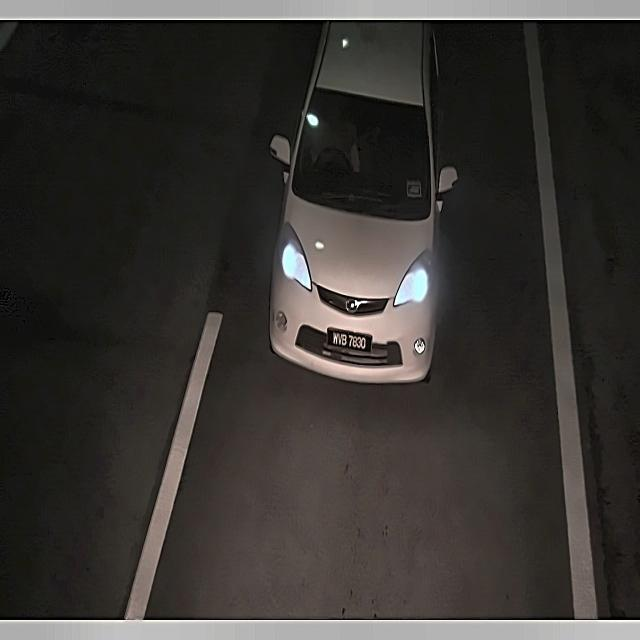car: (324, 323, 373, 358)
